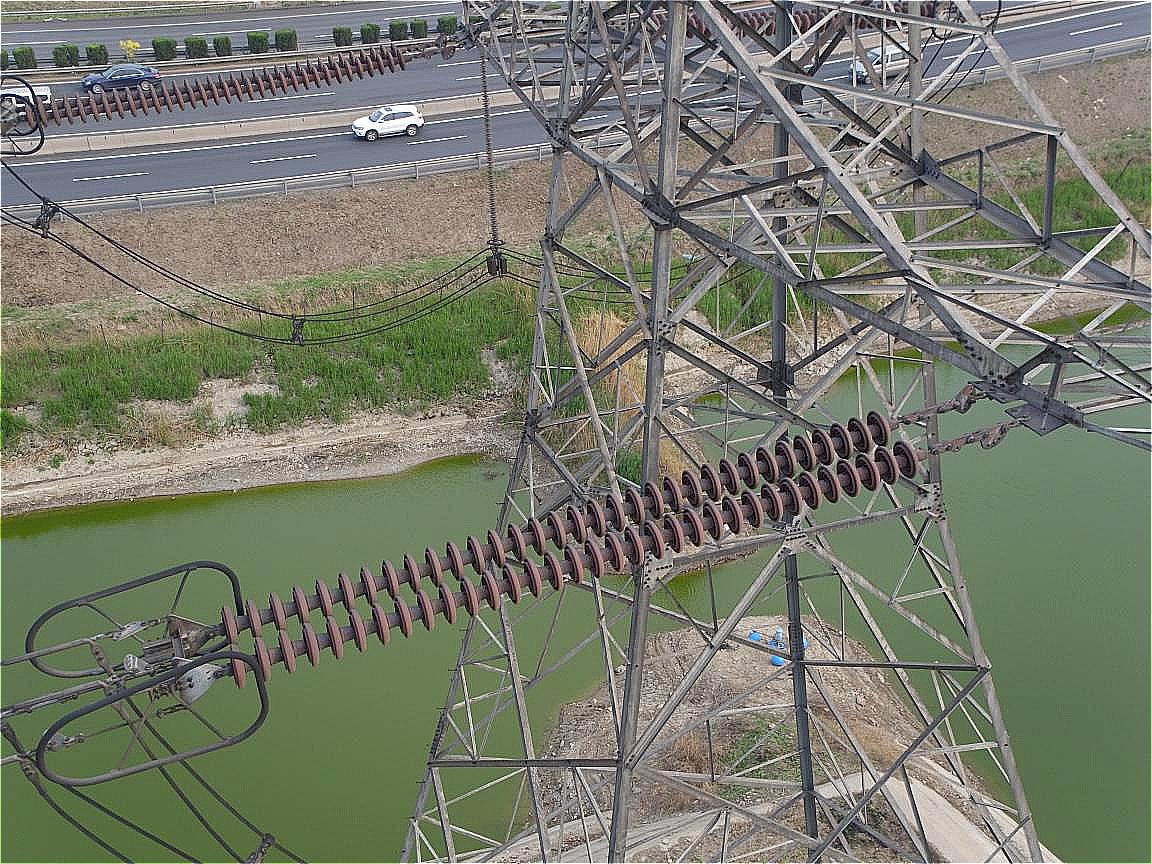insultor1: (209, 377, 922, 695), (12, 47, 409, 119)
